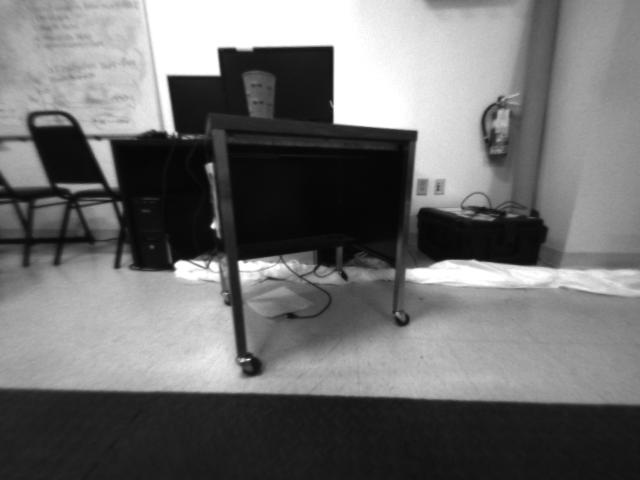coffee_cup: (238, 69, 279, 119)
